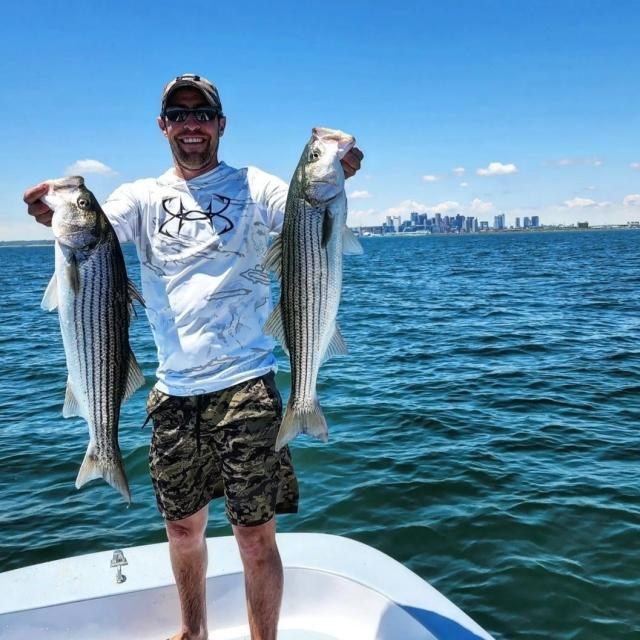Bass - Striped: (42, 177, 144, 502), (263, 128, 361, 449)
